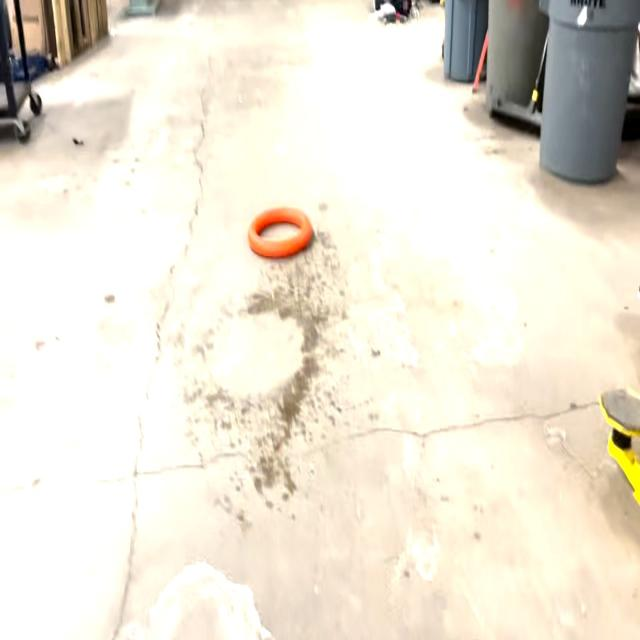note: (246, 200, 315, 262)
